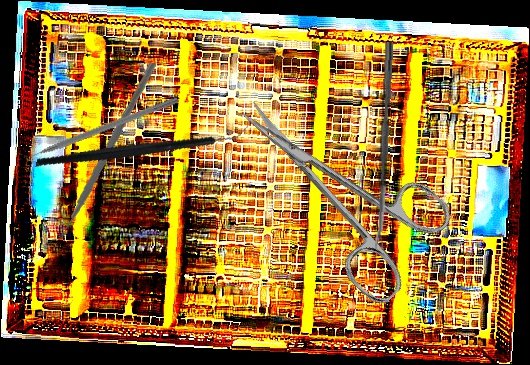Chopper: (35, 78, 249, 212), (31, 62, 168, 243), (14, 88, 180, 164)
Iris Scissors: (208, 60, 465, 310)
Surgical Spoon: (373, 41, 394, 250)
